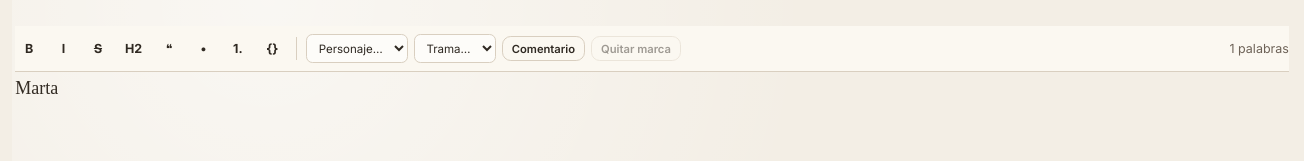
Test: EditorMarkdown con marcas › rechaza el comentario Nota | secreta antes de cambiar el manuscrito
This screenshot has width=1304, height=161.
Expected: the element named "Marcas del texto" is shown, [15,26,1289,72]
Click the button "Comentario" at (543, 48), box [502,36,585,61]
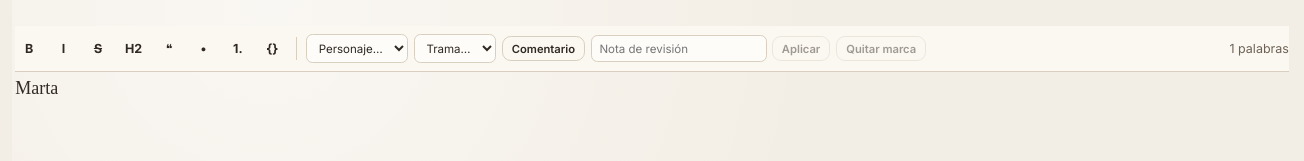
Type "Nota | secreta" into the field named "Texto del comentario" at (679, 48), box [591,35,767,62]
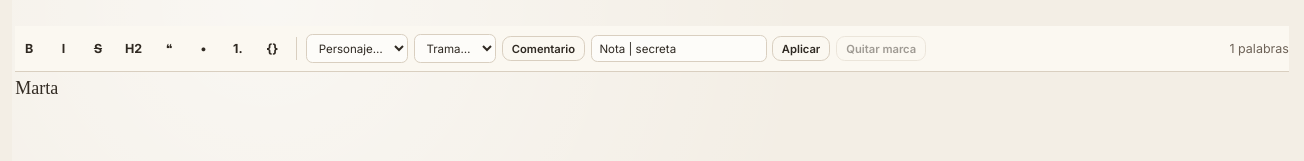
Click the button "Aplicar" at (801, 48), box [772,36,830,61]
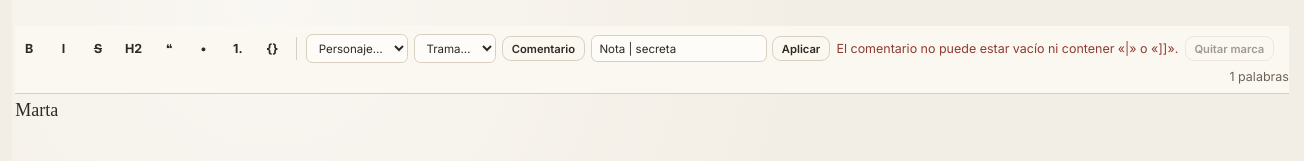
Expected: the message shows "El comentario", [836,41,1178,56]
